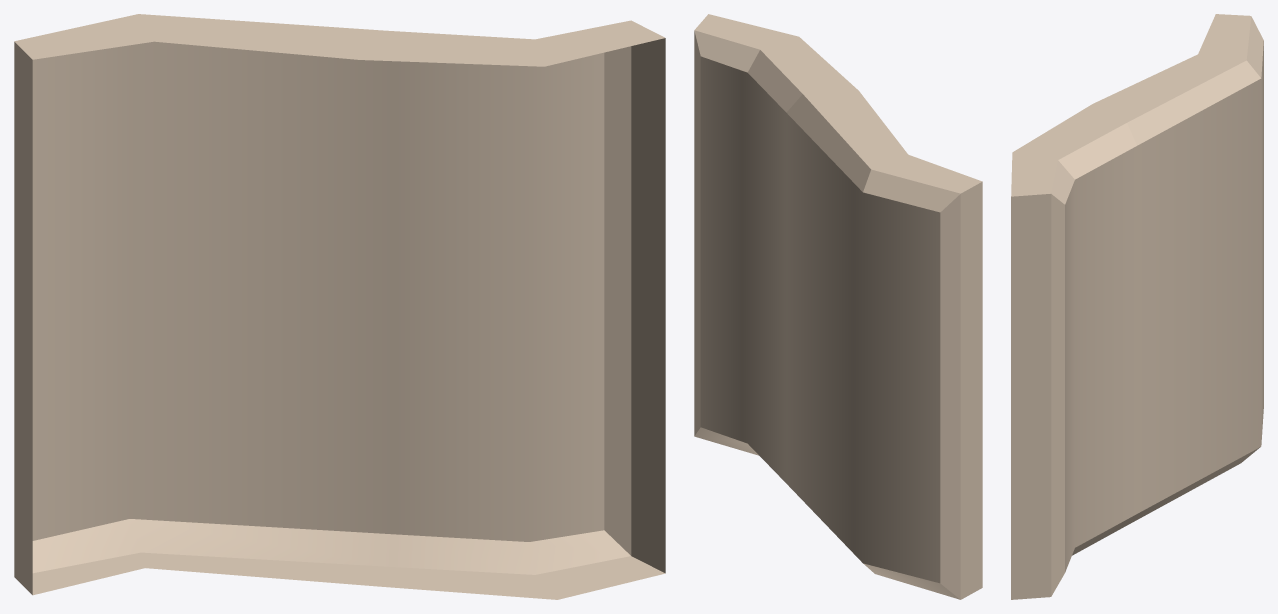
The model's file is Module_Ss_wall_1X_F1.FBX.
3 views of the same model, side by side, from view 1: azimuth 30°, elevation 25°; view 2: azimuth 150°, elevation 25°; view 3: azimuth 270°, elevation 25° (orthographic). The views are drawn at different scales.
Parts seen in each view (by area): view 1: Module_Ss_wall_1X_F1; view 2: Module_Ss_wall_1X_F1; view 3: Module_Ss_wall_1X_F1.
Part boxes in pixels (x1,y1,x2,y2): Module_Ss_wall_1X_F1: (14,14,665,599); Module_Ss_wall_1X_F1: (694,14,982,599); Module_Ss_wall_1X_F1: (1011,14,1263,599).
Bounding box in the file's own units: 38.25 × 39.37 × 22.36.
